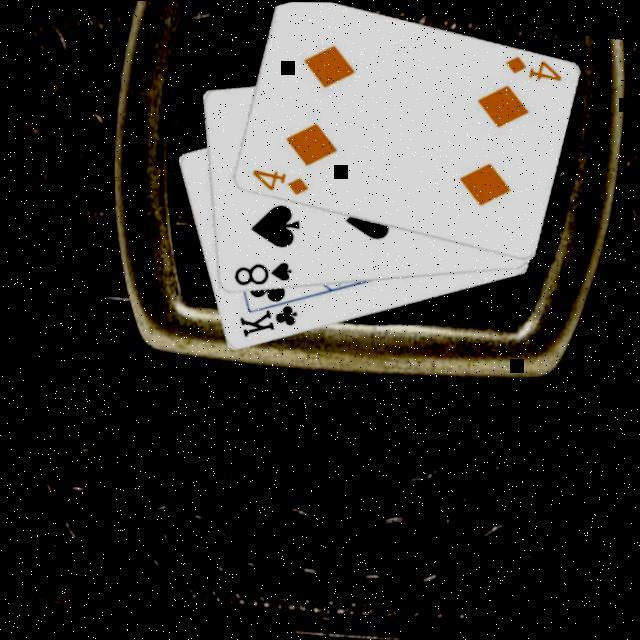4D: (244, 162, 312, 198), (498, 49, 566, 84)
8S: (228, 252, 296, 293)
KC: (233, 285, 302, 345)
